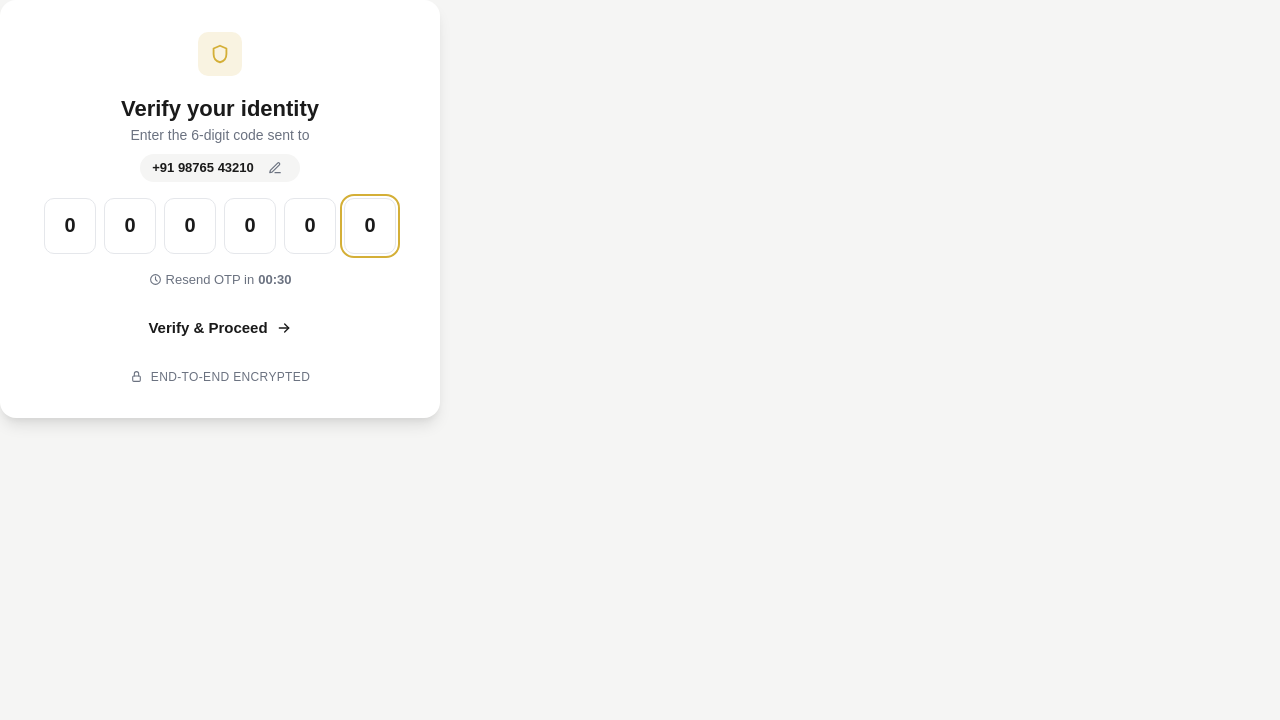
Scenario: OtpForm › verifying › shows the lockout message from the server on rate limiting
Click the button "Verify & Proceed". click: {"x": 220, "y": 328}
box: [24,305,416,352]
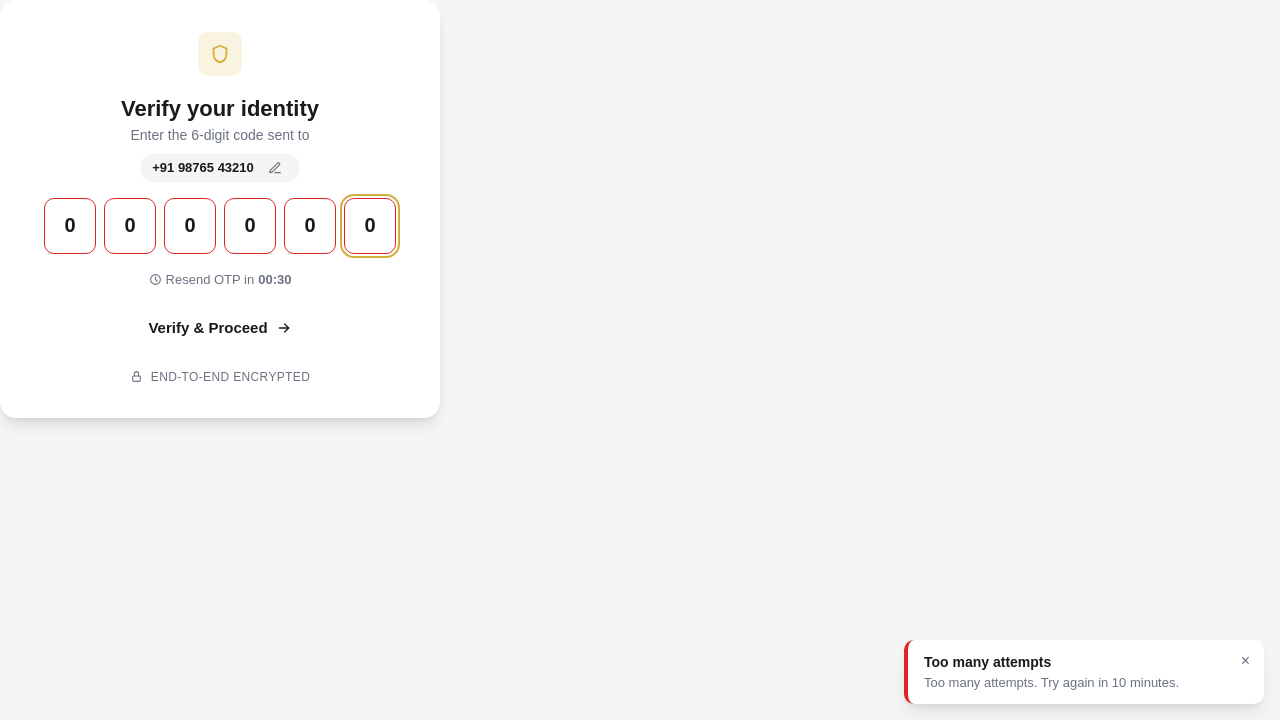
Result: the text "Too many attempts" is shown at [924,654,1051,670]
Result: the text "Too many attempts. Try again in 10 minutes." is shown at [924,674,1179,690]
